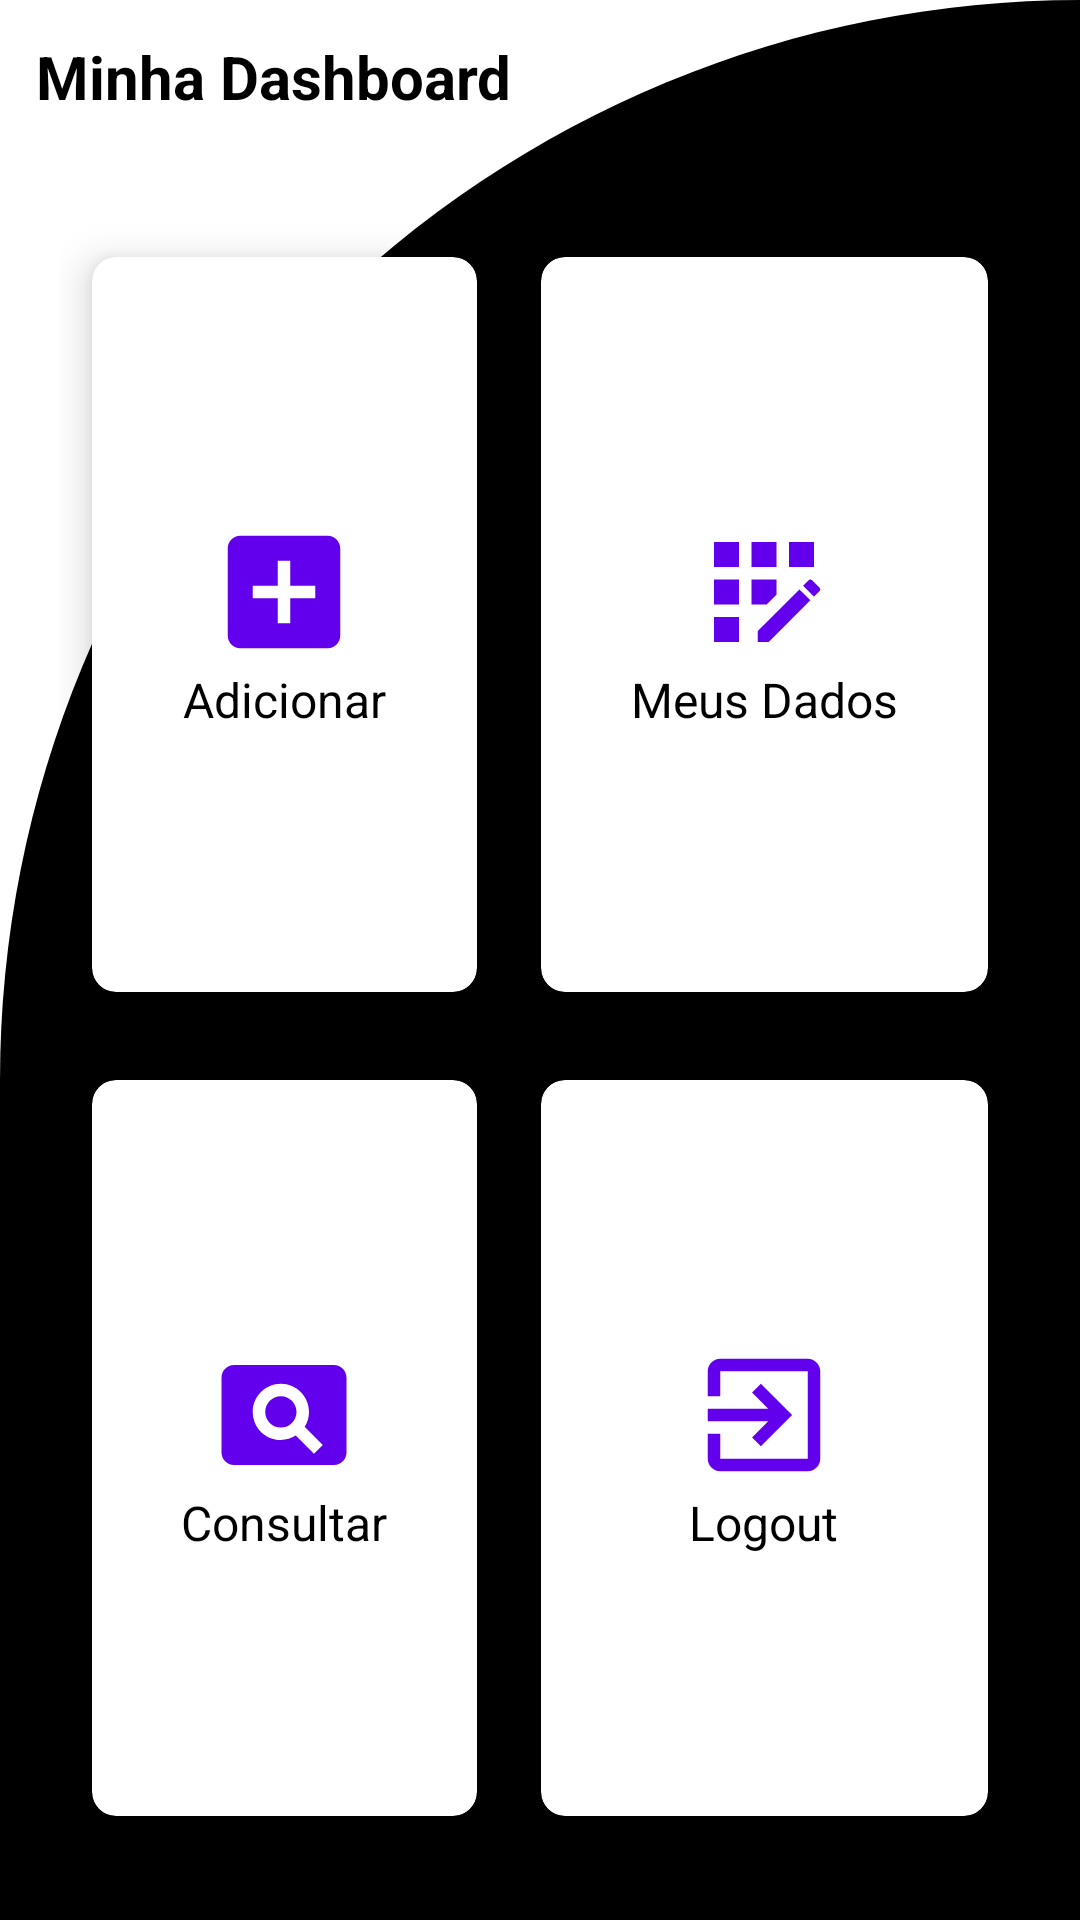

Screen size 1080 × 1920. Icon name, then its box in pixels as {"left": x1, "top": y1, "right": x2, "bottom": y2}:
pageview: {"left": 221, "top": 1365, "right": 347, "bottom": 1465}
registro: {"left": 714, "top": 542, "right": 821, "bottom": 642}
